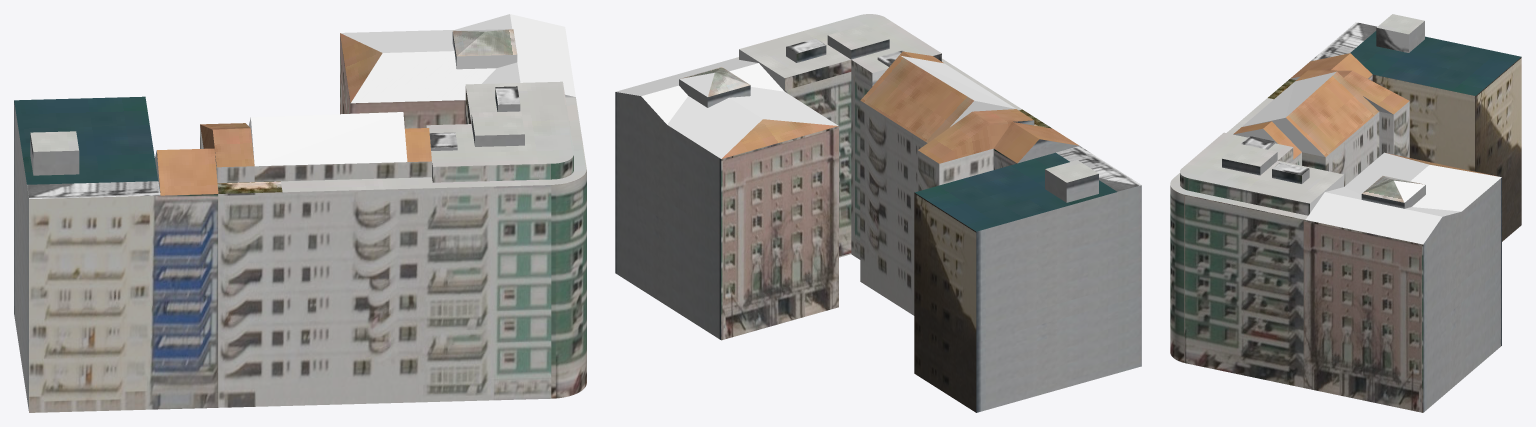
Rendered from predios2.fbx.
The picture shows the model from 3 angles, left to right: view 1: azimuth 30°, elevation 25°; view 2: azimuth 150°, elevation 25°; view 3: azimuth 270°, elevation 25°; orthographic projection. The views are drawn at different scales.
Parts seen in each view (by area): view 1: Group1; view 2: Group1; view 3: Group1.
Boxes of the visible parts, x1=… form: Group1: x1=14, y1=14, x2=586, y2=412; Group1: x1=615, y1=14, x2=1141, y2=412; Group1: x1=1170, y1=14, x2=1521, y2=412.
Size of the model in its own units: 73.64 by 30.81 by 49.17.
